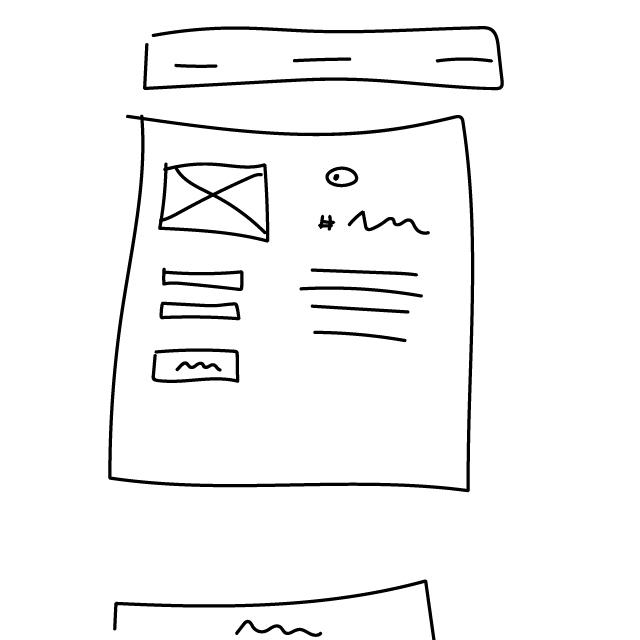buttonrotation: (148, 344, 246, 387)
checkboxrotation: (324, 164, 363, 193)
containerrotation: (84, 102, 490, 514)
footerrotation: (104, 577, 451, 640)
framerotation: (157, 158, 279, 249)
headingrotation: (315, 205, 433, 246)
inputrotation: (158, 263, 248, 295), (159, 297, 245, 324)
navrotation: (137, 21, 510, 94)
textrotation: (297, 258, 433, 351)
